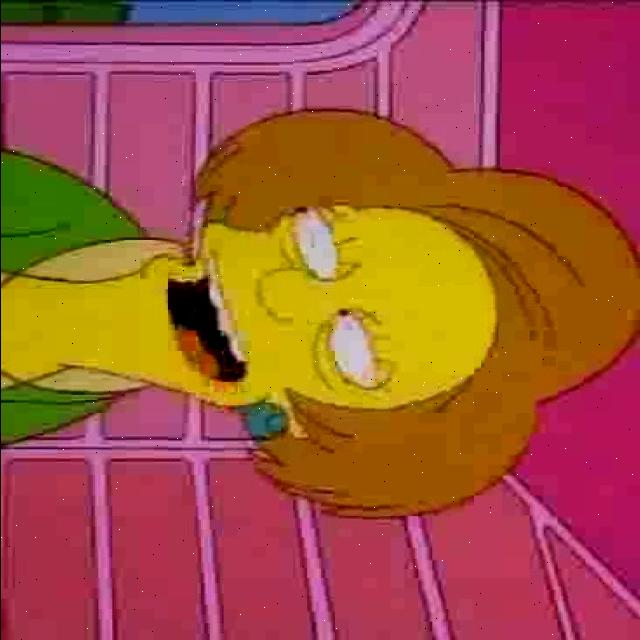Edna Krappel: (64, 104, 640, 520)
